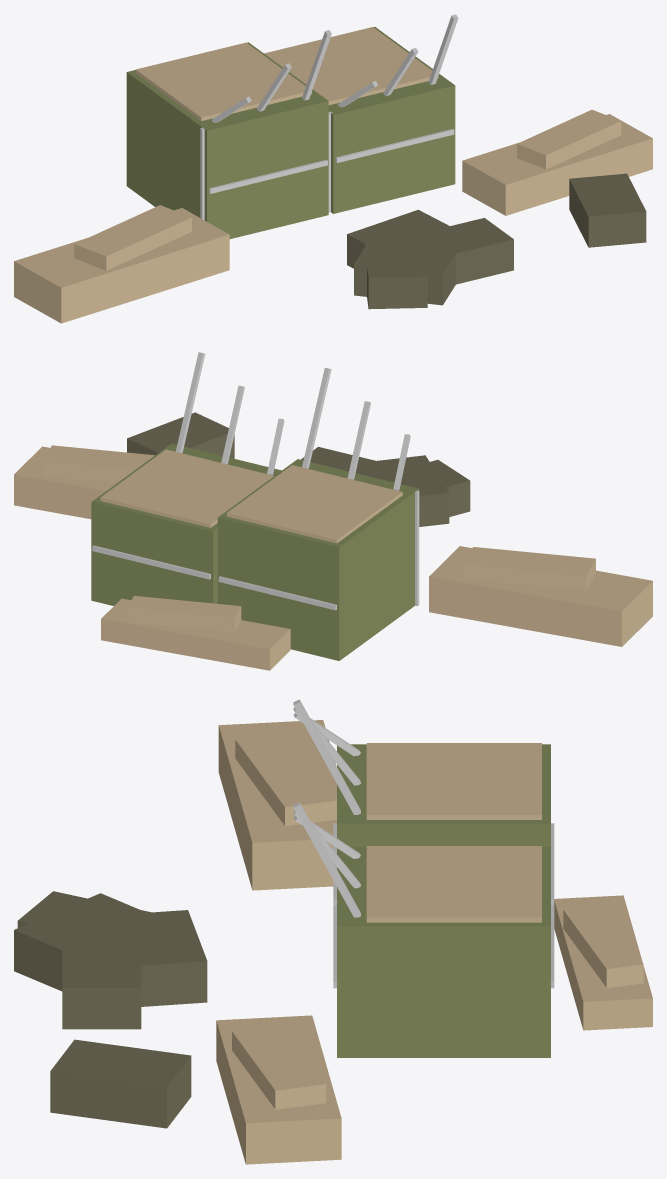
File: SM_HescoCorto2_v3_RemateSacos_e2_MuyDanado_LOD0.fbx
The picture shows the model from 3 angles, top to bottom: view 1: azimuth 30°, elevation 25°; view 2: azimuth 150°, elevation 25°; view 3: azimuth 270°, elevation 25°; orthographic projection. The views are drawn at different scales.
Parts seen in each view (by area): view 1: SM_hesco_piezas_v74_LOD0; view 2: SM_hesco_piezas_v74_LOD0; view 3: SM_hesco_piezas_v74_LOD0.
Part boxes in pixels (<box>): SM_hesco_piezas_v74_LOD0: <box>14,14,652,323</box>; SM_hesco_piezas_v74_LOD0: <box>14,352,652,670</box>; SM_hesco_piezas_v74_LOD0: <box>14,699,652,1164</box>.
Bounding box in the file's own units: 5.36 × 1.67 × 3.64.
